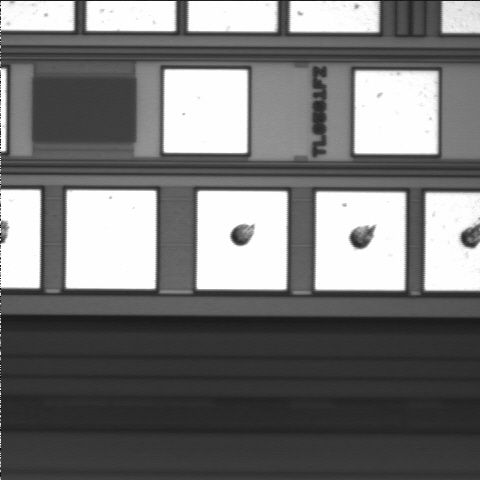pad: (66, 190, 156, 289), (197, 191, 287, 290), (315, 192, 405, 290), (164, 70, 247, 153), (355, 71, 438, 154)
